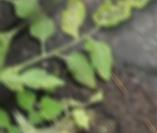Tomato Septoria leaf spot: (45, 0, 101, 46), (87, 0, 138, 40)
